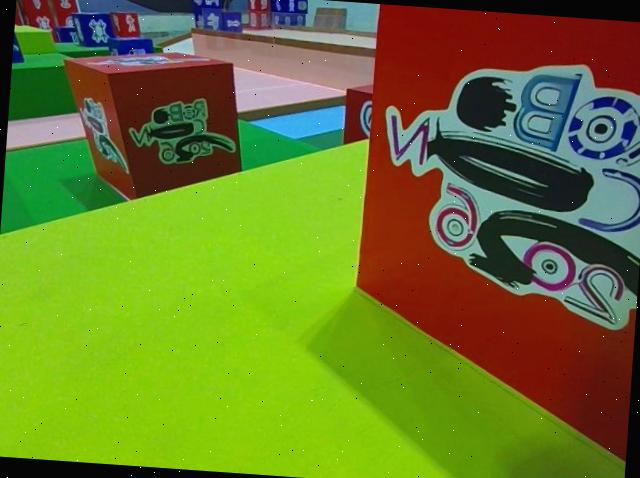R1: (346, 3, 640, 471), (54, 41, 250, 207)
